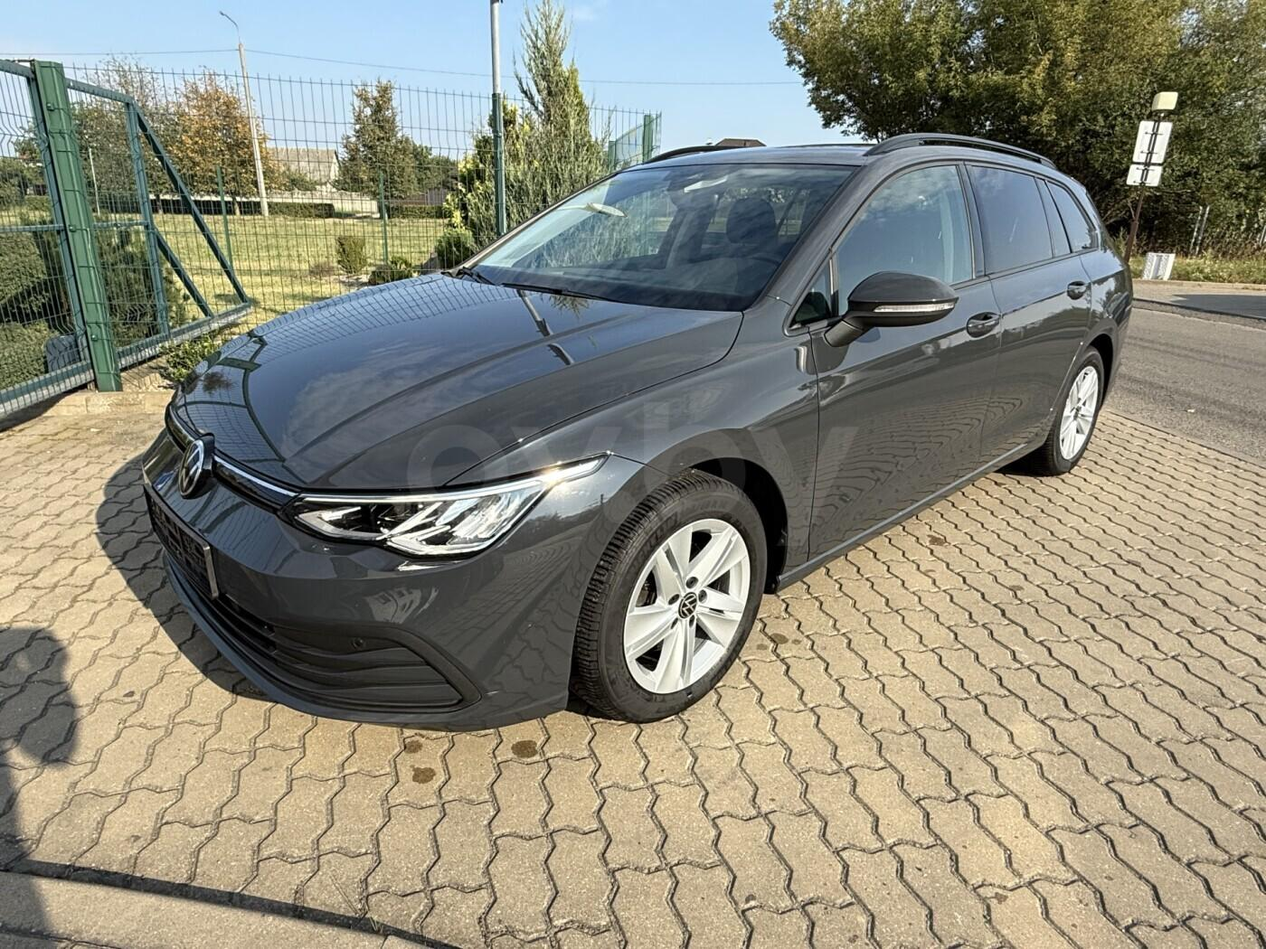Golf_2019: (137, 133, 1133, 728)
